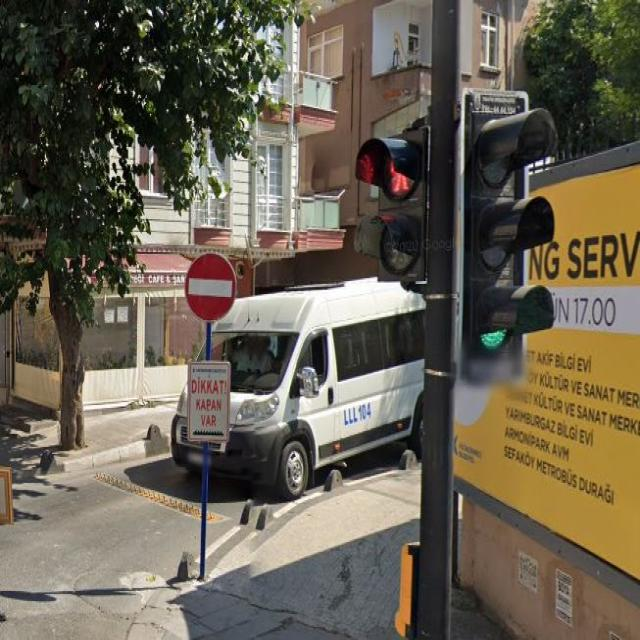girisyok: (183, 252, 236, 320)
yesil: (459, 89, 528, 379)
